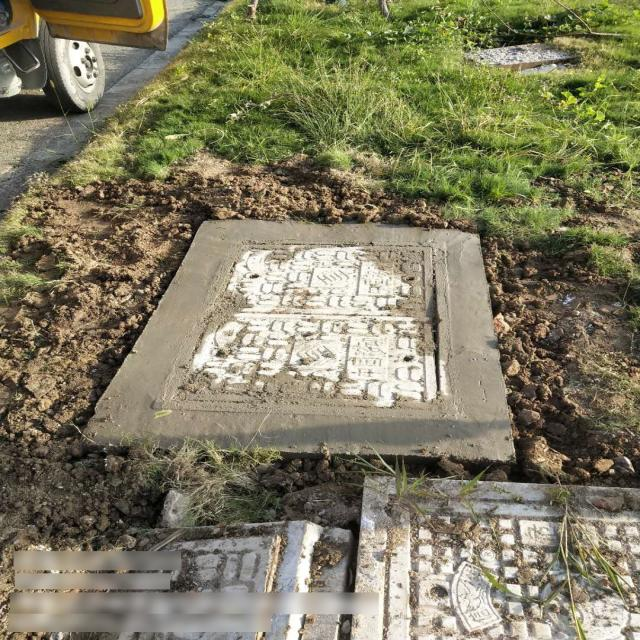Good: (151, 242, 455, 418), (337, 474, 639, 640)
